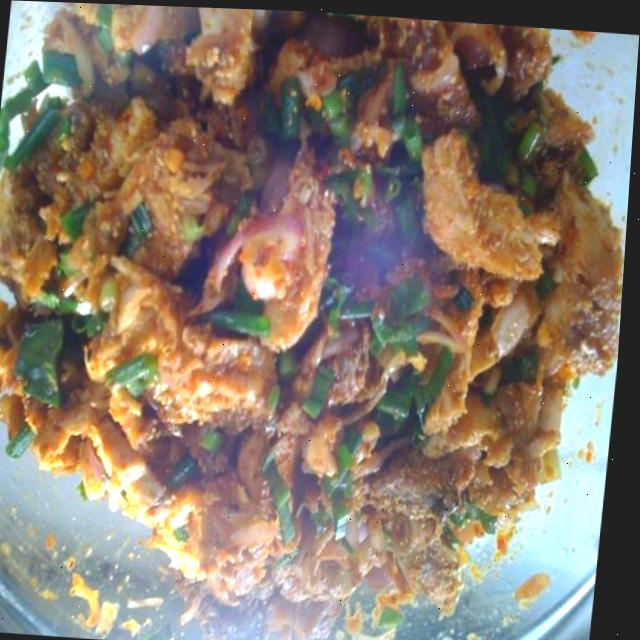鸡肉料理 含炸鸡: (0, 4, 613, 640)
